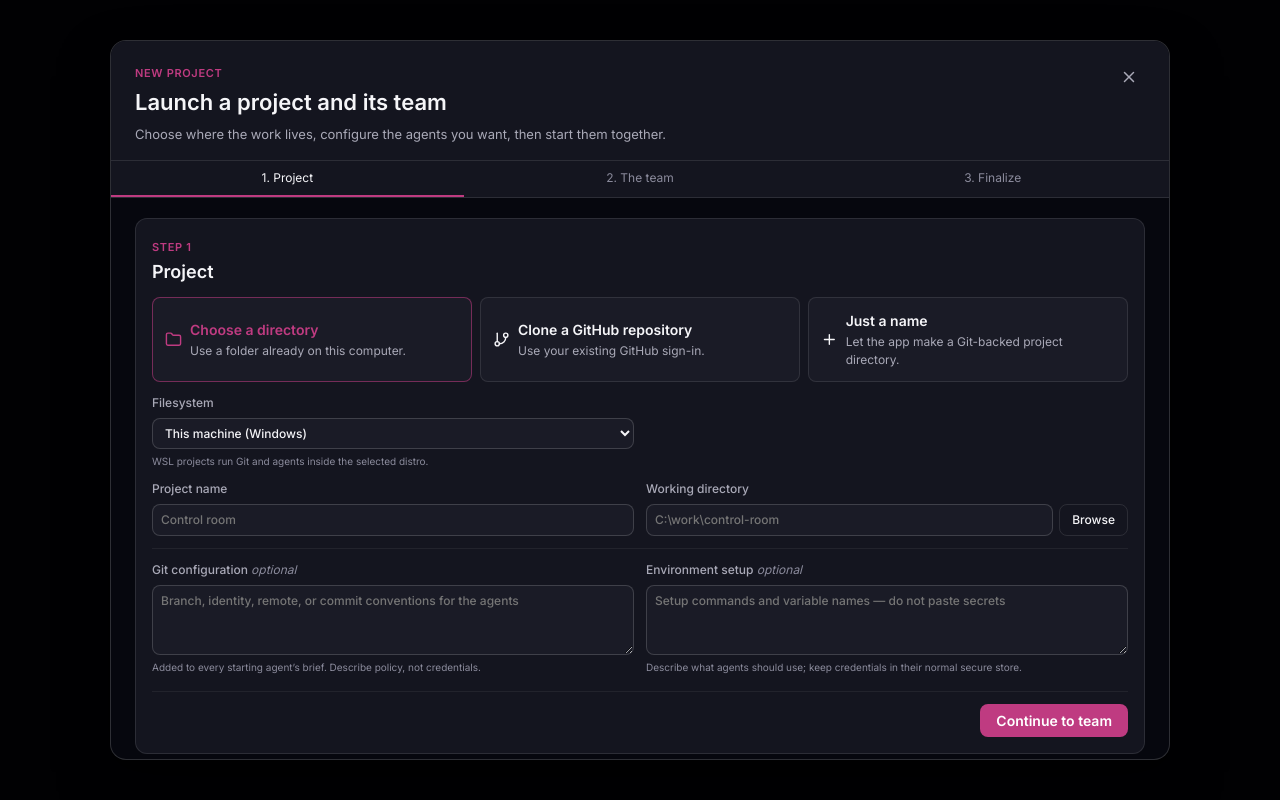
Scenario: New project pipeline › reuses the GitHub import surface instead of presenting a second clone flow
The width and height of the screenshot is (1280, 800).
What coordinates should you click on to do the following:
click the button "Clone a GitHub repository"
I would click on:
 (640, 339)
Its box is x1=480 y1=297 x2=800 y2=382.
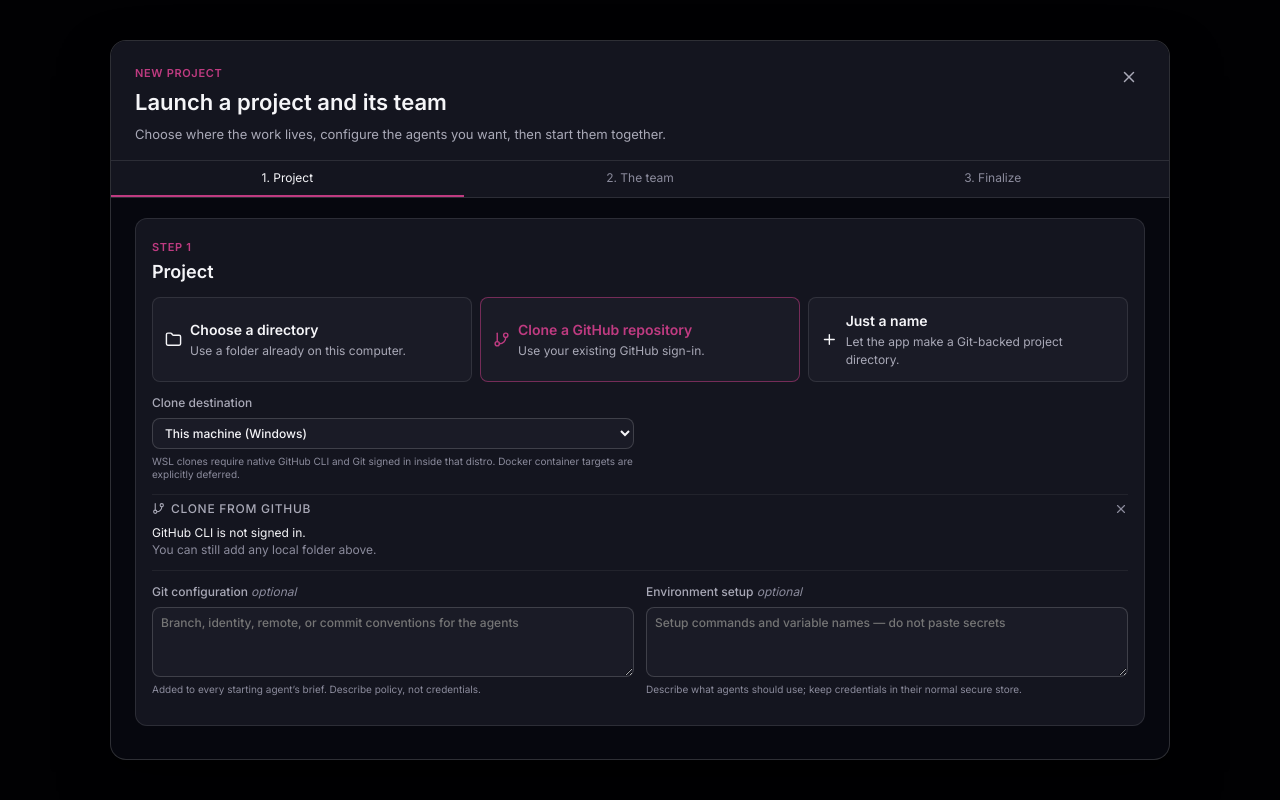
Expected: the text "GitHub CLI is not signed in." is shown, x1=152 y1=525 x2=306 y2=540
Expected: the text "You can still add any local folder above." is shown, x1=152 y1=542 x2=376 y2=557
